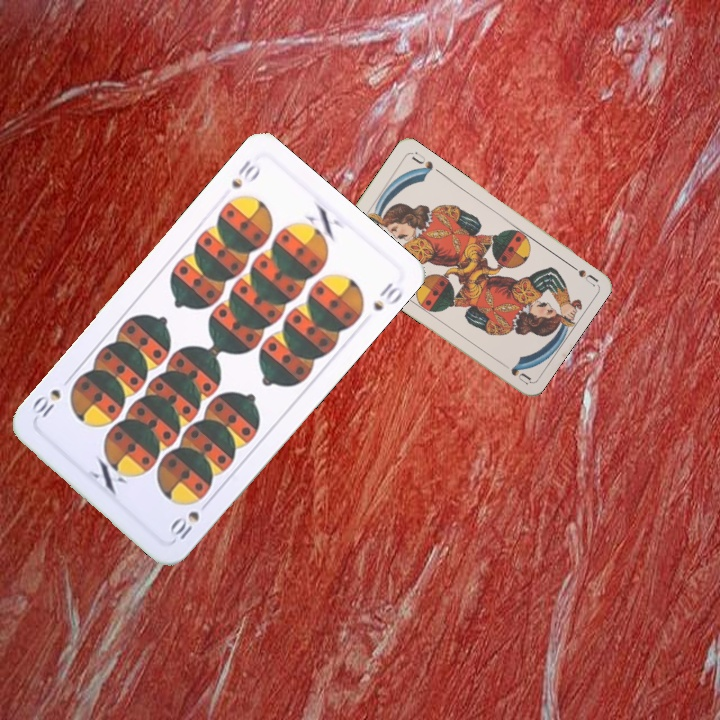S10: (165, 496, 213, 545), (227, 156, 264, 192)
SU: (562, 258, 600, 289)
